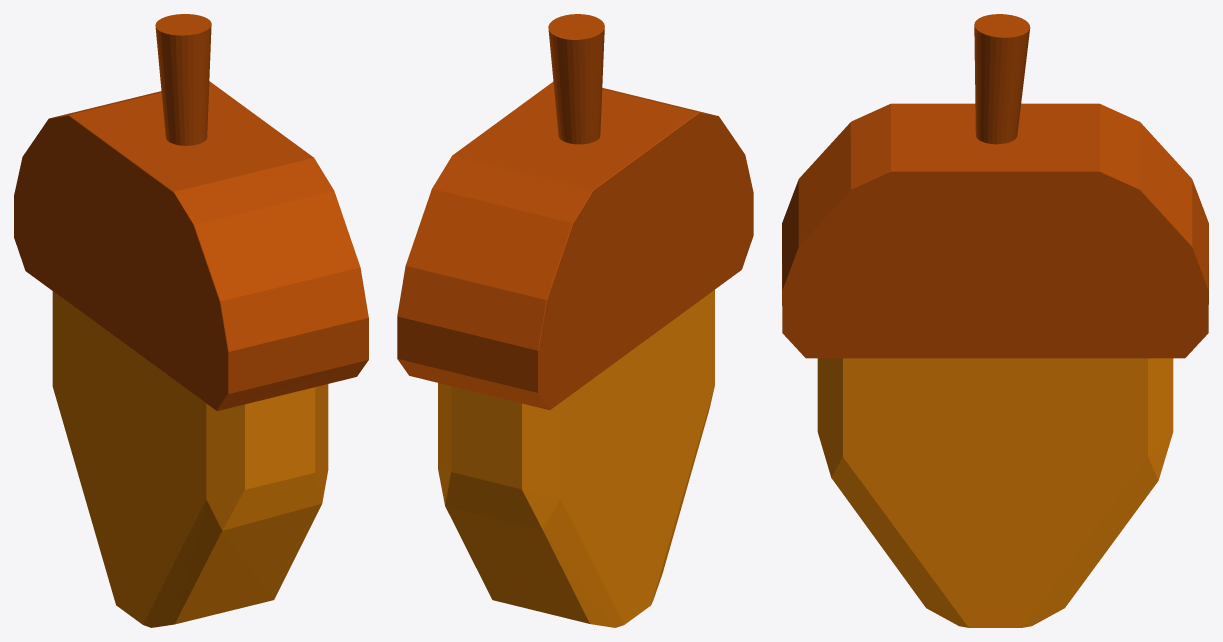
File: Acorn_Score.fbx
3 renders of one model, left to right at view 1: azimuth 30°, elevation 25°; view 2: azimuth 150°, elevation 25°; view 3: azimuth 270°, elevation 25°, orthographic.
Visible parts, largest first — view 1: acorn2 Mesh (1), acorn1 Mesh (1); view 2: acorn2 Mesh (1), acorn1 Mesh (1); view 3: acorn2 Mesh (1), acorn1 Mesh (1).
Boxes of the visible parts, box(x1,y1,x2,y2) form: acorn2 Mesh (1): box(14, 14, 368, 410); acorn1 Mesh (1): box(52, 291, 328, 627); acorn2 Mesh (1): box(397, 14, 753, 410); acorn1 Mesh (1): box(438, 290, 714, 627); acorn2 Mesh (1): box(782, 14, 1208, 358); acorn1 Mesh (1): box(817, 358, 1173, 627).
Bounding box in the file's own units: 0.3094 × 1.21 × 0.8181.
